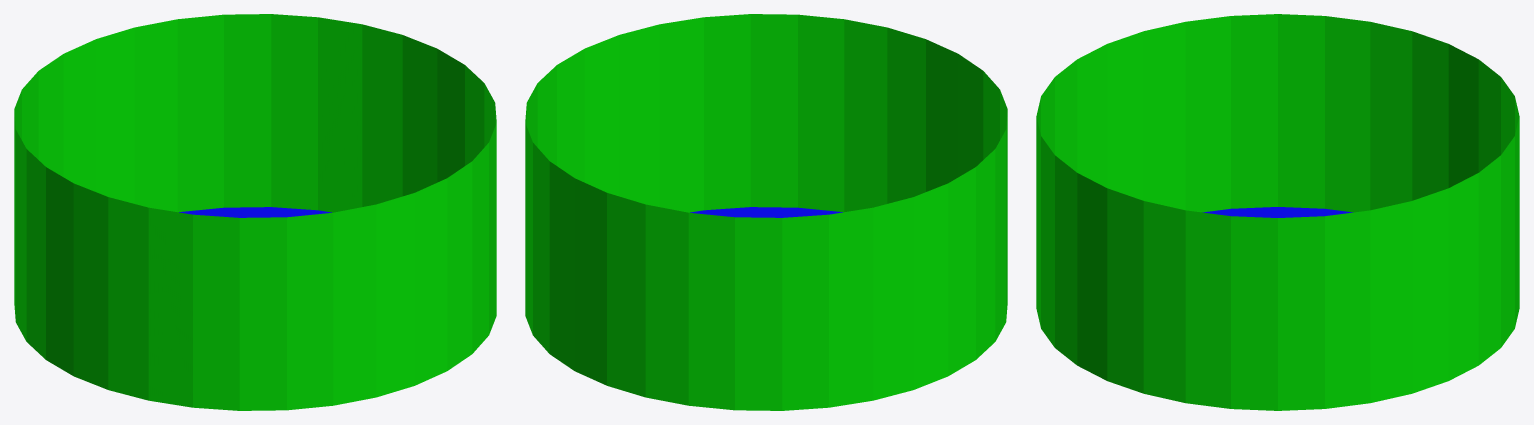
The model's file is Underground.obj.
3 views of the same model, side by side, from view 1: azimuth 30°, elevation 25°; view 2: azimuth 150°, elevation 25°; view 3: azimuth 270°, elevation 25° (orthographic).
Parts seen in each view (by area): view 1: Circle.002; view 2: Circle.002; view 3: Circle.002.
Part boxes in pixels (x1,y1,x2,y2): Circle.002: [14, 14, 496, 410]; Circle.002: [525, 14, 1007, 410]; Circle.002: [1036, 14, 1519, 410].
Size of the model in its own units: 8 by 3.52 by 8.
